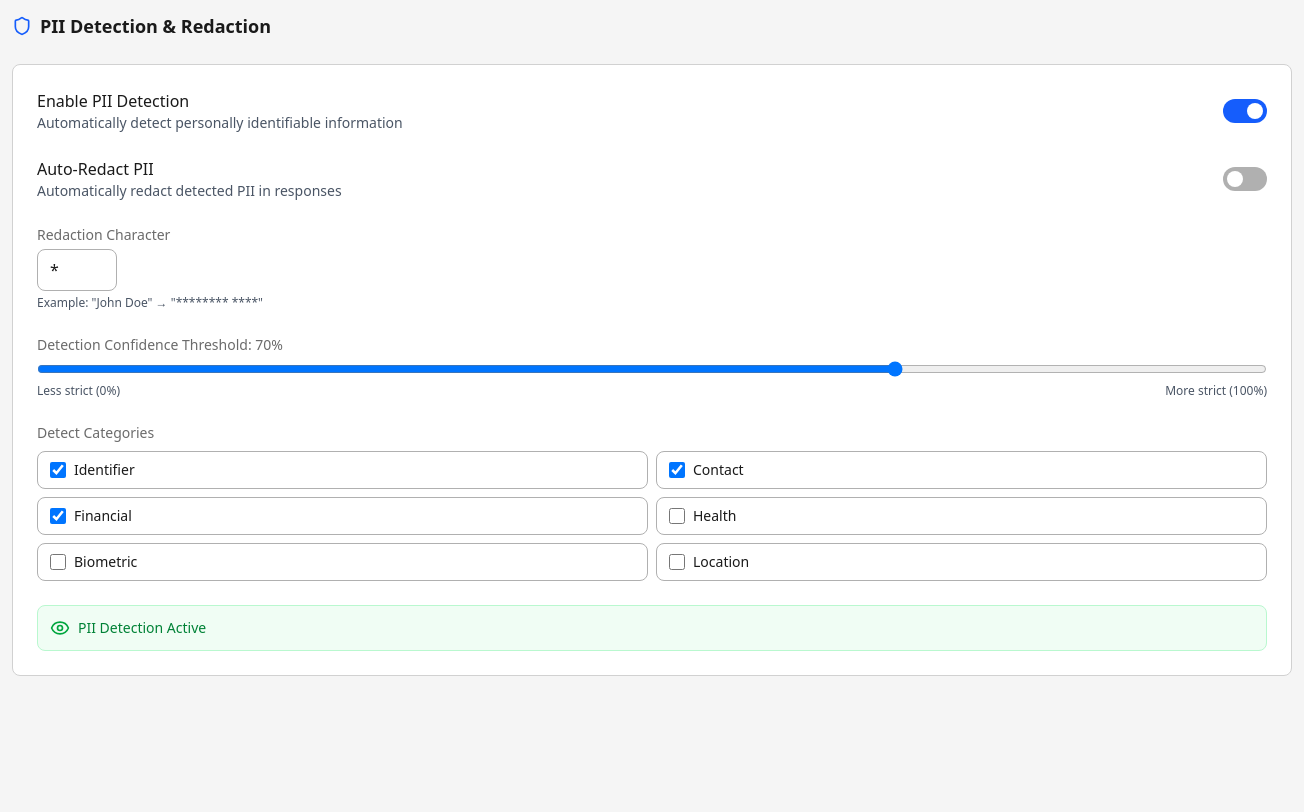
Test case: PIIRedactionSettings › Toggle Interactions › shows Save Changes button when settings are modified
Expected: the text "Save Changes" is not shown
Note: Click enable toggle to trigger change
What coordinates should you click on to do the following:
click the button without text in the row of "Enable PII Detection"
I would click on:
 (1245, 111)
Its box is [1223,99,1267,123].
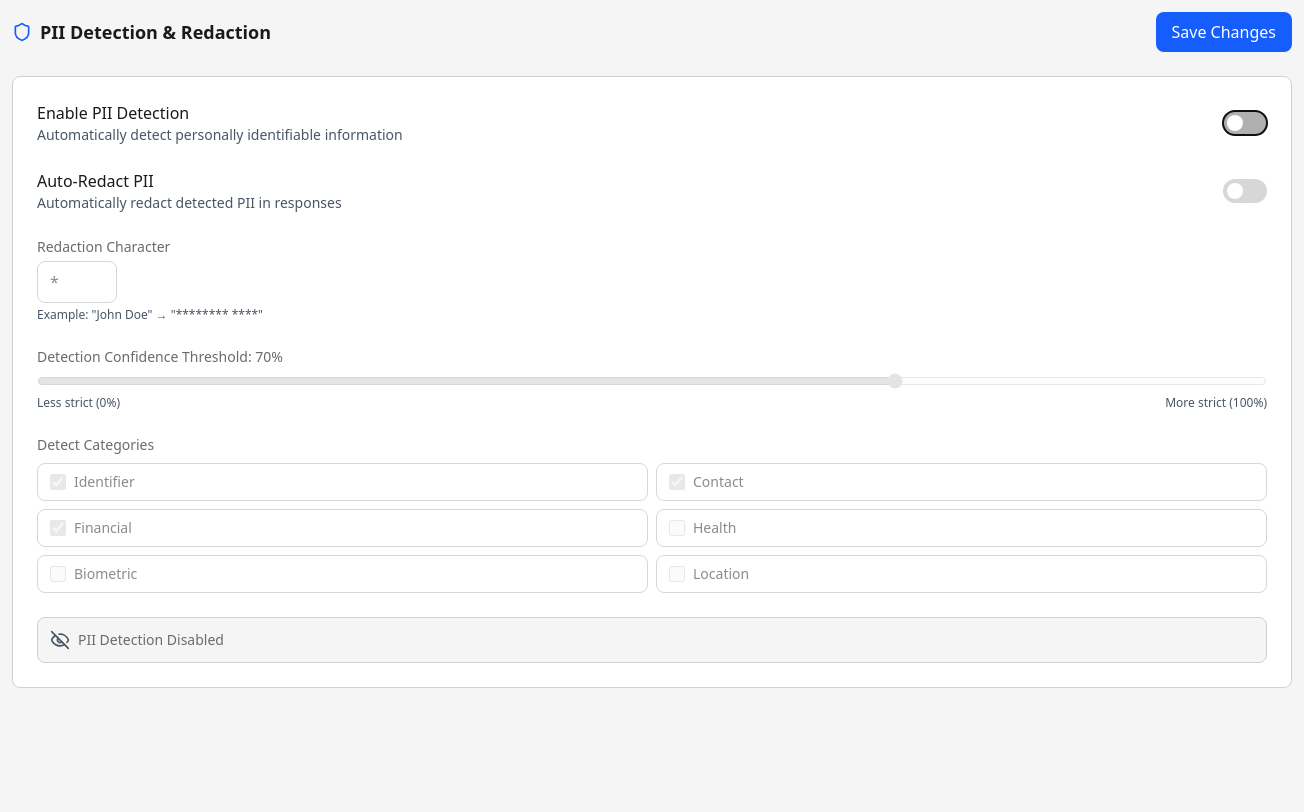
Expected: the button "Save Changes" is shown, [1156,12,1292,52]
